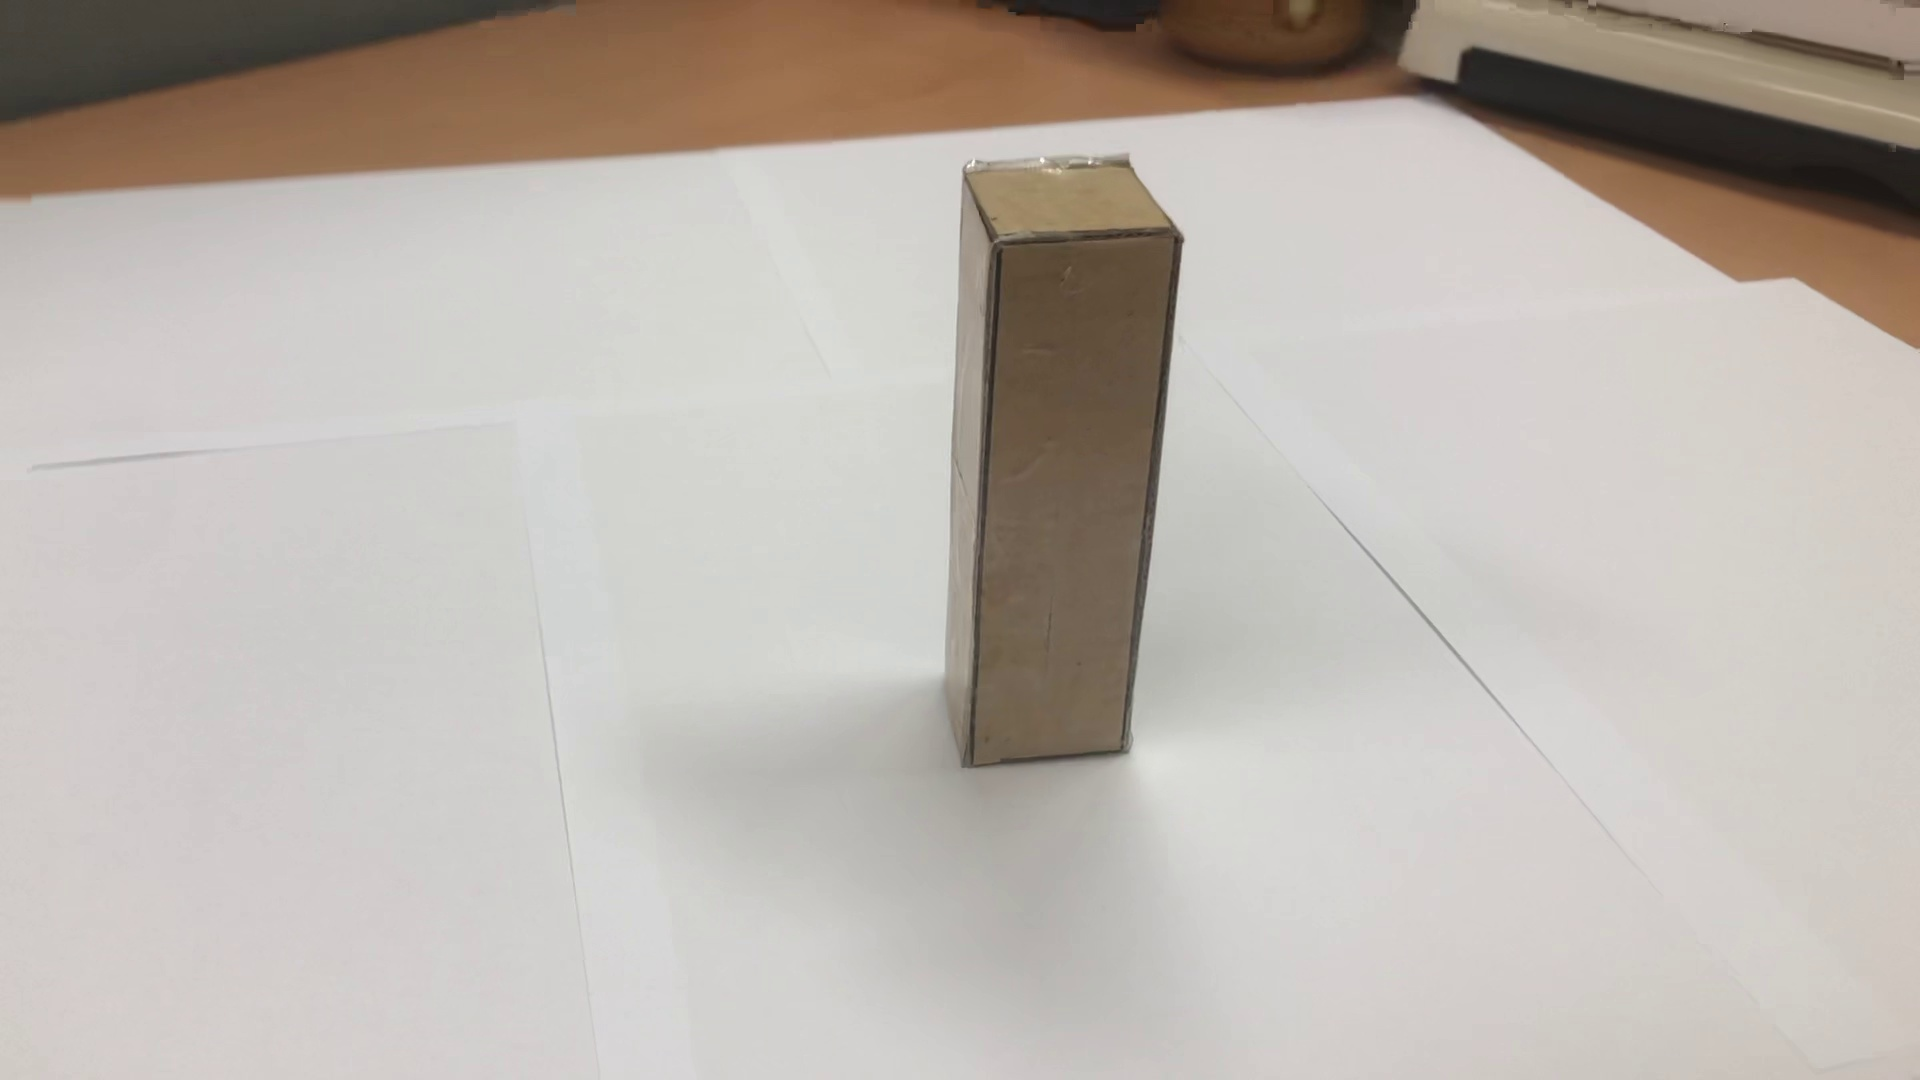box: (934, 138, 1197, 818)
